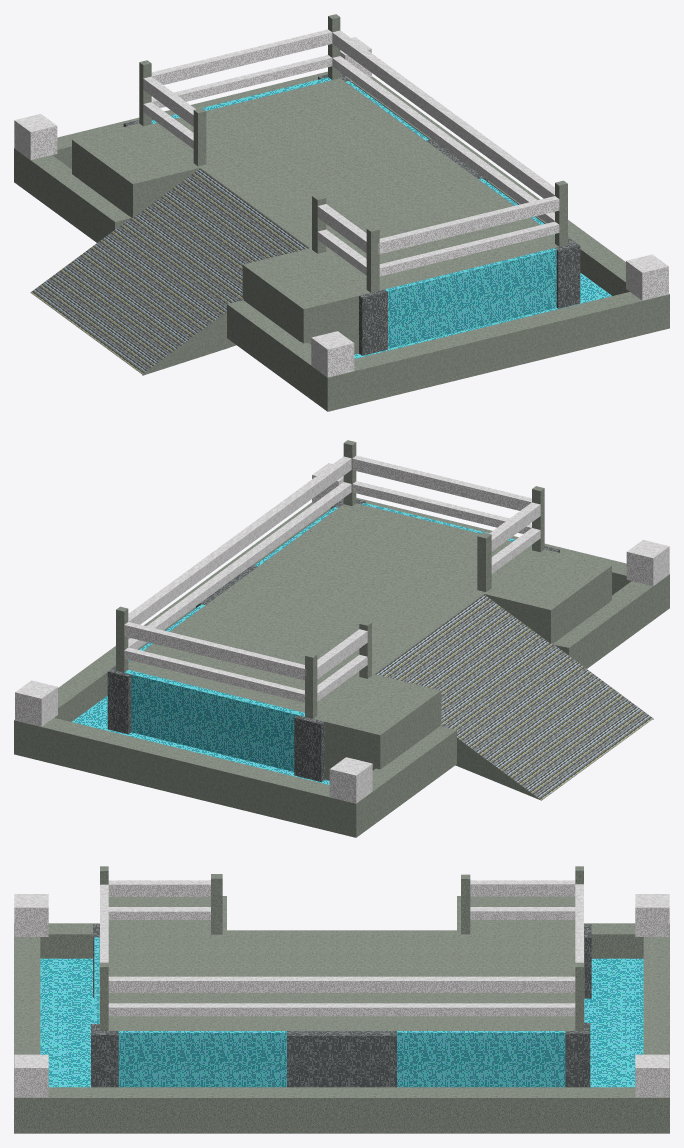
Rendered from BGN_FOUNTAIN PARK.fbx.
3 renders of one model, top to bottom at view 1: azimuth 30°, elevation 25°; view 2: azimuth 150°, elevation 25°; view 3: azimuth 270°, elevation 25°, orthographic. The views are drawn at different scales.
Parts seen in each view (by area): view 1: BGN_FOUNTAIN_PARK; view 2: BGN_FOUNTAIN_PARK; view 3: BGN_FOUNTAIN_PARK.
Part boxes in pixels (bbox=[...]): BGN_FOUNTAIN_PARK: bbox=[14, 14, 669, 411]; BGN_FOUNTAIN_PARK: bbox=[14, 440, 669, 837]; BGN_FOUNTAIN_PARK: bbox=[14, 866, 669, 1133].
Bounding box in the file's own units: 1270 × 417 × 1617.
5 materials, 5 textured.
